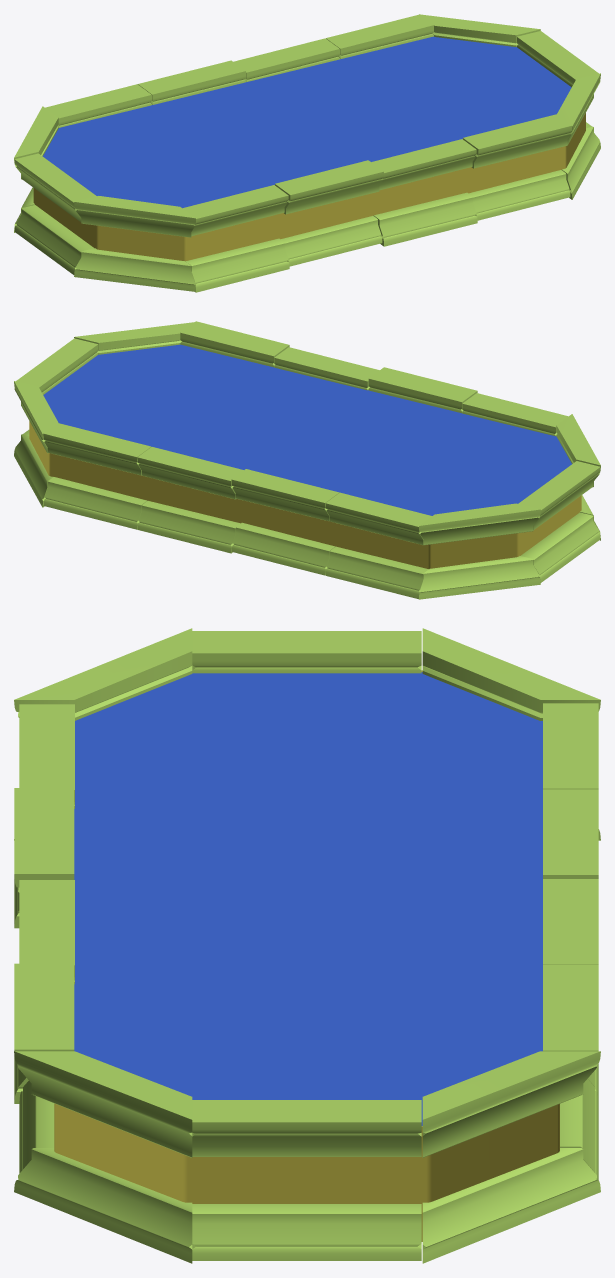
Rendered from SM_water_pool.fbx.
The picture shows the model from 3 angles, top to bottom: view 1: azimuth 30°, elevation 25°; view 2: azimuth 150°, elevation 25°; view 3: azimuth 270°, elevation 25°; orthographic projection. The views are drawn at different scales.
Visible parts, largest first — view 1: Object32711; view 2: Object32711; view 3: Object32711.
Part boxes in pixels (left/top/right/bottom): Object32711: left=14, top=14, right=600, bottom=292; Object32711: left=14, top=321, right=600, bottom=599; Object32711: left=14, top=628, right=600, bottom=1263.
Bounding box in the file's own units: 481 × 65.66 × 243.
